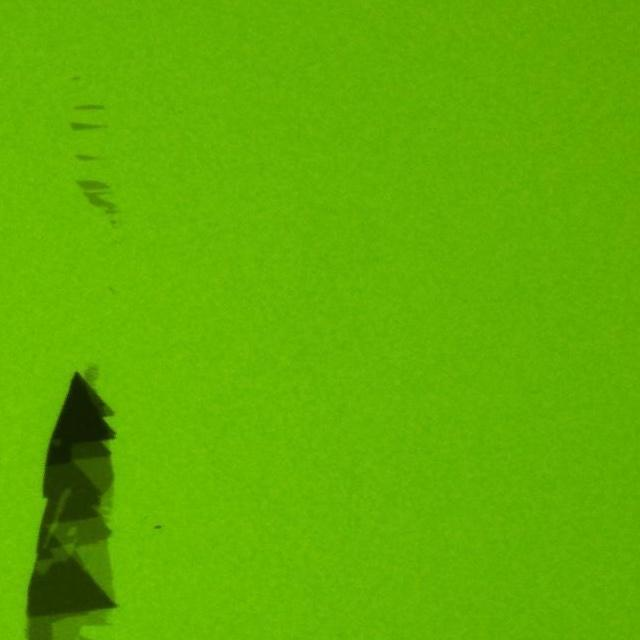monolayer-eWW4: (64, 538, 113, 594), (45, 606, 112, 640)
